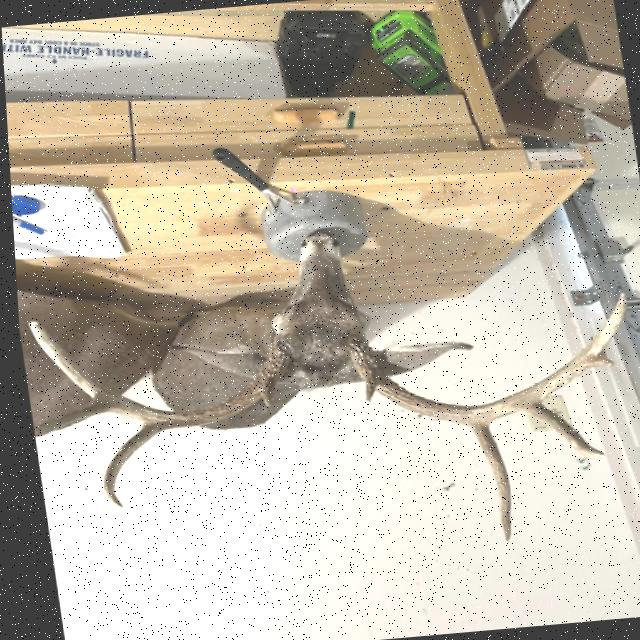L-F: (23, 321, 287, 427)
L-G2: (95, 423, 167, 511)
R-F: (345, 291, 623, 422)
R-G1: (358, 376, 371, 403)
R-G2: (458, 422, 505, 542)
R-G3: (516, 399, 600, 459)
